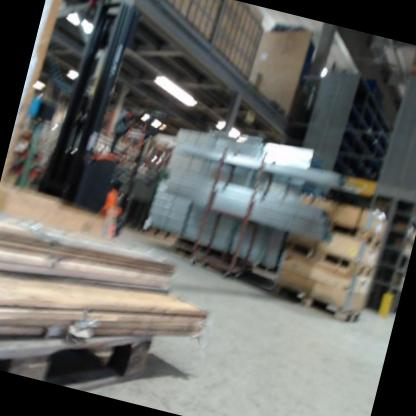pallet: (0, 293, 164, 405), (267, 279, 367, 326), (279, 239, 377, 279), (328, 222, 387, 249)
pallet_truck: (39, 0, 168, 219)
